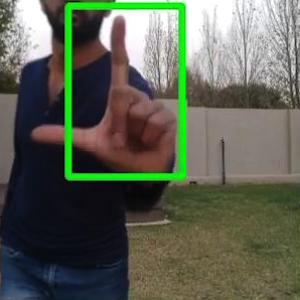land_hand: (29, 12, 179, 179)
